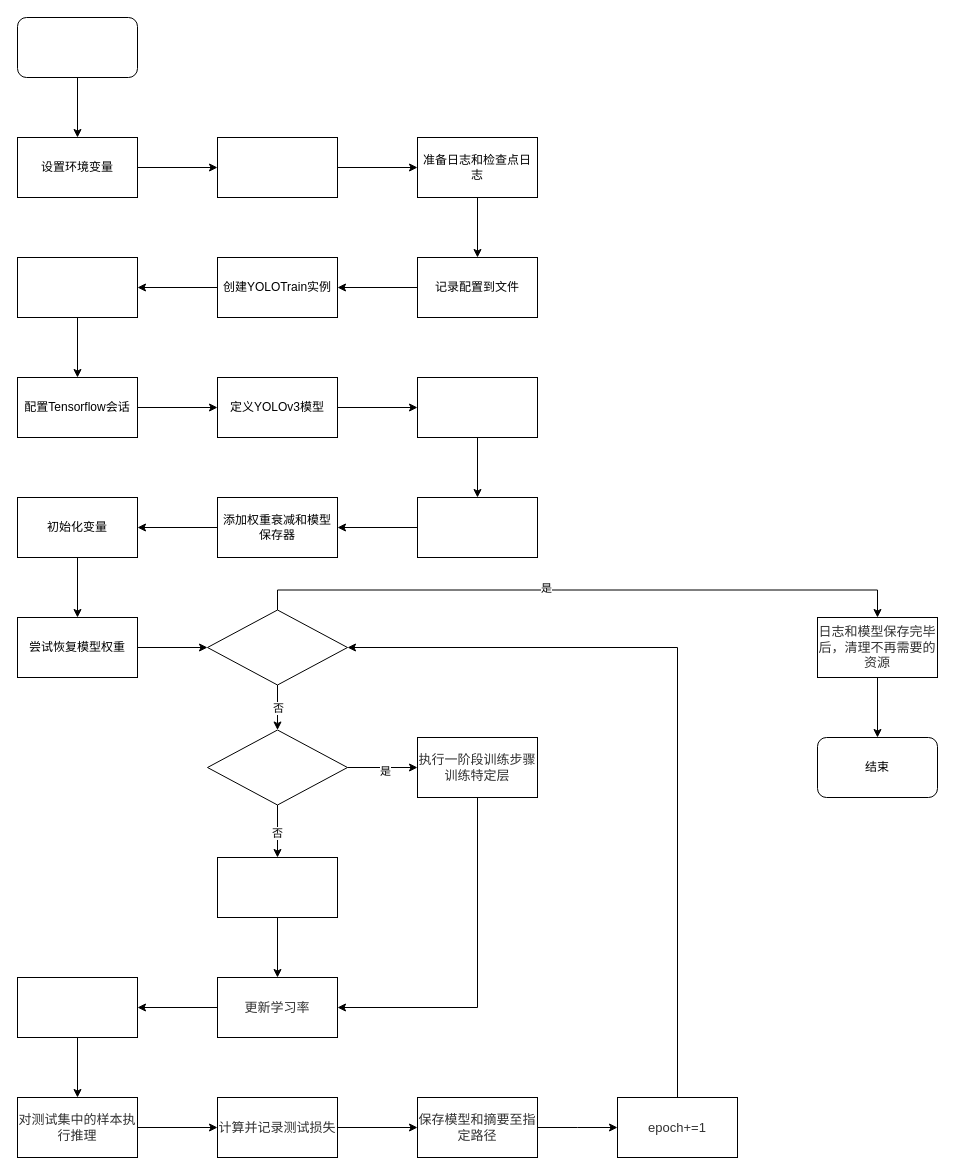
Image size: 955x1175. Some labels were removed from this diagram. Here are the shapes that lost their labels. From the top down, the box of each, then its label:
(16, 16, 138, 78): 开始
(216, 136, 338, 198): 配置训练参数
(16, 256, 138, 318): 实例化测试集和训练集
(416, 376, 538, 438): 分阶段定义训练操作
(416, 496, 538, 558): 设置学习率调度
(206, 609, 348, 685): 所有epoch是否循环完毕
(206, 729, 348, 805): 是否为第一阶段循环
(216, 856, 338, 918): 执行二阶段训练步骤 训练所有层
(16, 976, 138, 1038): 测试循环
